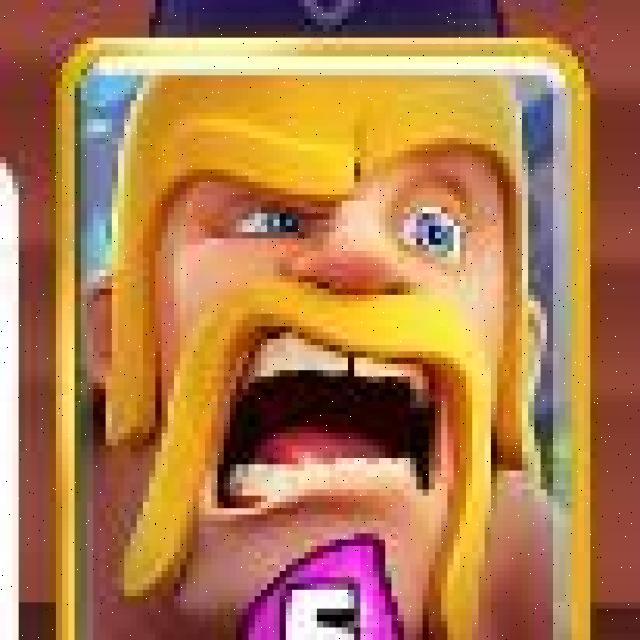Barbarians: (49, 34, 593, 640)
